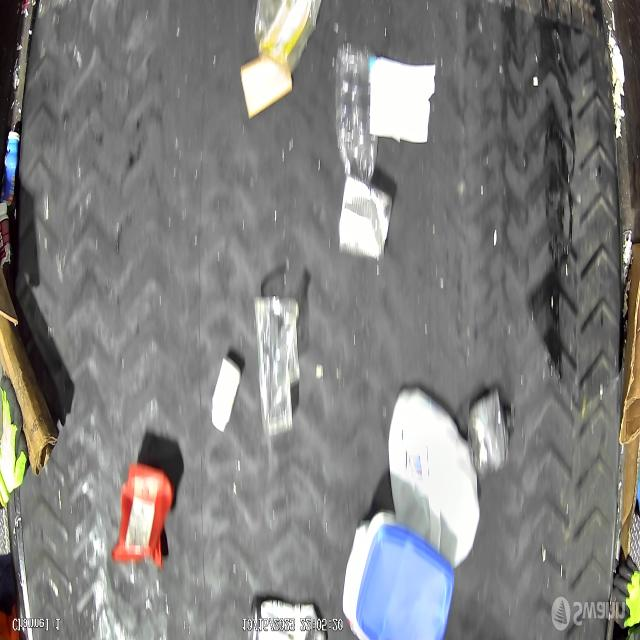can: (338, 175, 393, 260), (468, 387, 508, 480)
milk_jug: (388, 387, 479, 566)
plastic_bottle: (334, 44, 378, 184)
